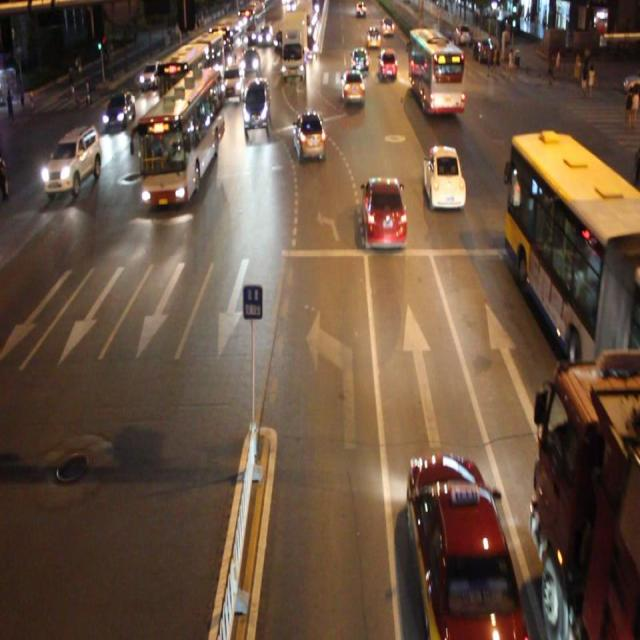bus: (530, 361, 640, 640)
car: (409, 454, 525, 640), (42, 127, 100, 193), (362, 176, 405, 246), (422, 142, 463, 208), (294, 108, 325, 158), (242, 76, 270, 129), (103, 87, 136, 131), (340, 68, 364, 104), (140, 58, 162, 90)
van: (505, 132, 640, 376), (139, 65, 220, 205), (408, 28, 462, 112)
